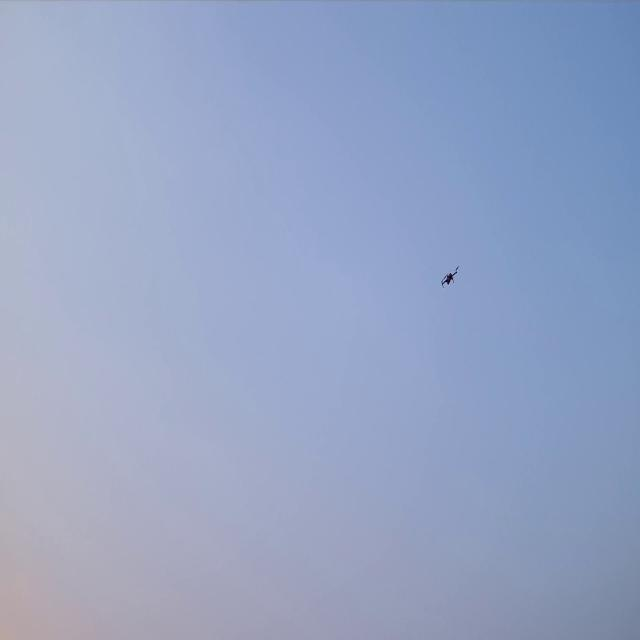UAV: (440, 264, 460, 288)
